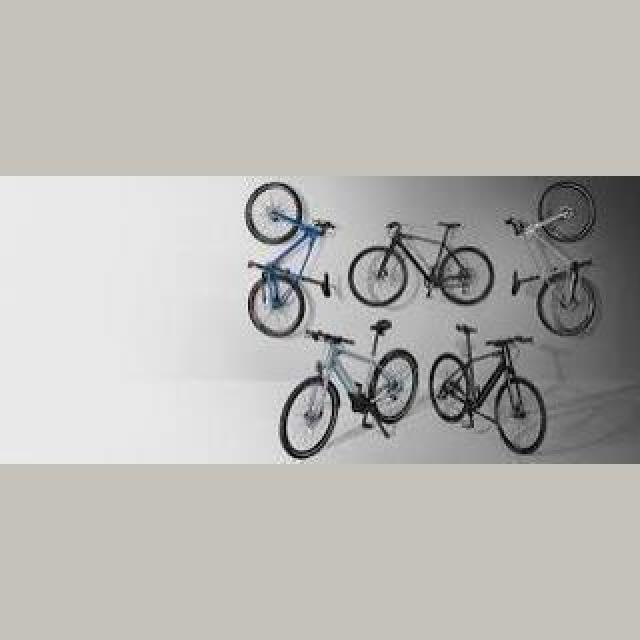Person: (281, 323, 419, 461), (504, 180, 600, 340), (430, 325, 548, 455), (244, 182, 340, 338), (349, 220, 495, 308)
